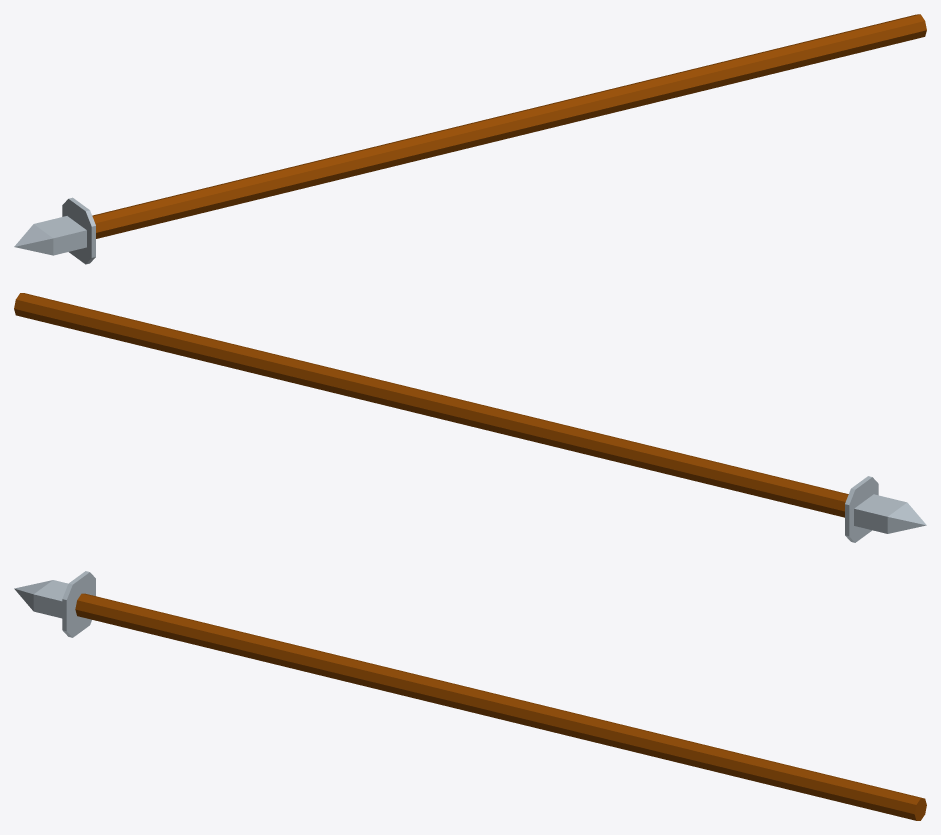
The model's file is spear.glb.
3 views of the same model, one above another, from view 1: azimuth 30°, elevation 25°; view 2: azimuth 150°, elevation 25°; view 3: azimuth 330°, elevation 25° (orthographic).
Parts seen in each view (by area): view 1: Stick, tip; view 2: Stick, tip; view 3: Stick, tip.
Part boxes in pixels (left/top/right/bottom): Stick: left=92, top=14, right=926, bottom=238; tip: left=14, top=197, right=95, bottom=264; Stick: left=14, top=293, right=848, bottom=517; tip: left=845, top=476, right=926, bottom=542; Stick: left=75, top=593, right=926, bottom=820; tip: left=14, top=571, right=95, bottom=637.
Bounding box in the file's own units: 1.91 × 0.1071 × 0.1071.
